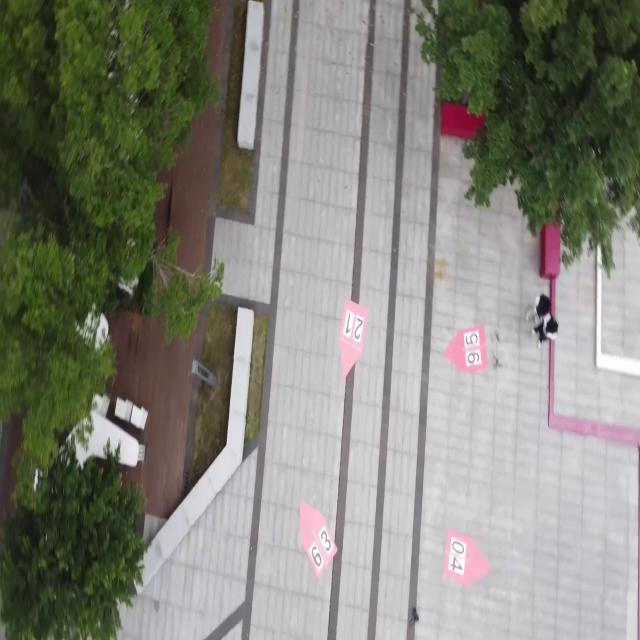-sign-: (293, 490, 344, 580), (432, 320, 497, 380), (442, 522, 495, 592), (338, 288, 373, 381)
